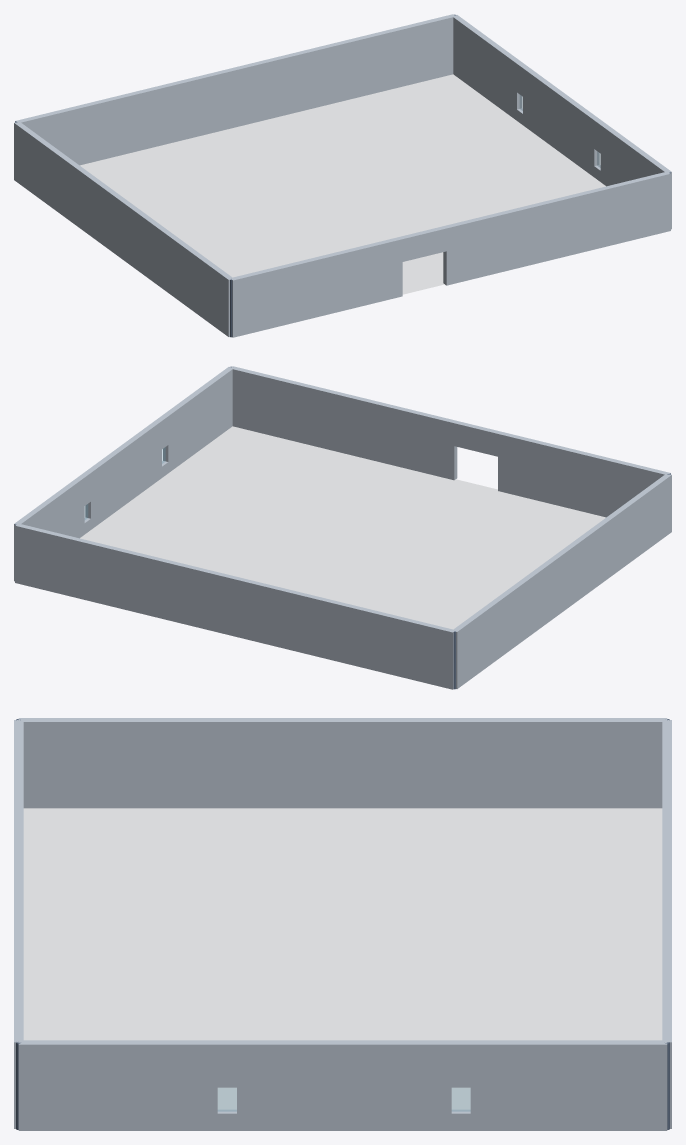
Rendered from 4affb171-dcf4-4de3-b338-d40e1bca64d1.glb.
The picture shows the model from 3 angles, top to bottom: view 1: azimuth 30°, elevation 25°; view 2: azimuth 150°, elevation 25°; view 3: azimuth 270°, elevation 25°; orthographic projection. The views are drawn at different scales.
Parts seen in each view (by area): view 1: room-content; view 2: room-content; view 3: room-content.
Part boxes in pixels (<box>): room-content: <box>14,14,671,337</box>; room-content: <box>14,366,671,689</box>; room-content: <box>14,718,671,1130</box>.
Bounding box in the file's own units: 40.5 × 5 × 34.5.
